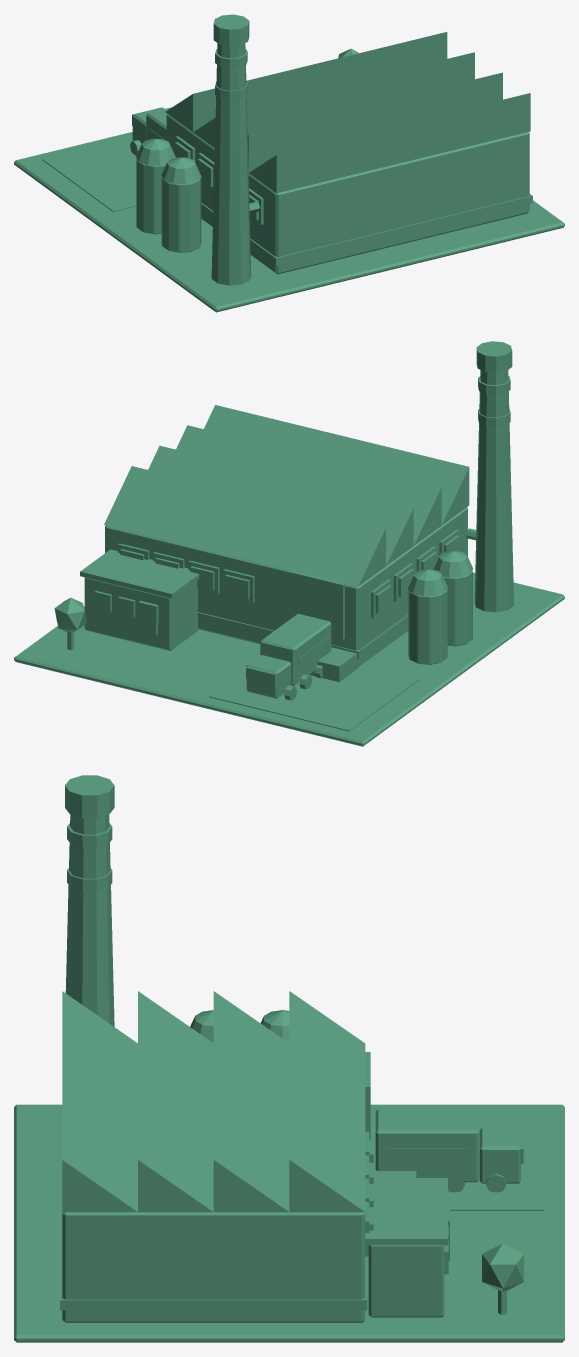
3 renders of one model, top to bottom at view 1: azimuth 30°, elevation 25°; view 2: azimuth 150°, elevation 25°; view 3: azimuth 270°, elevation 25°, orthographic. The views are drawn at different scales.
Parts seen in each view (by area): view 1: corpo; view 2: corpo; view 3: corpo.
Part boxes in pixels (x1,y1,x2,y2): corpo: (14, 14, 564, 312); corpo: (14, 341, 564, 746); corpo: (14, 775, 564, 1342).
Size of the model in its own units: 4 by 2.84 by 4.
